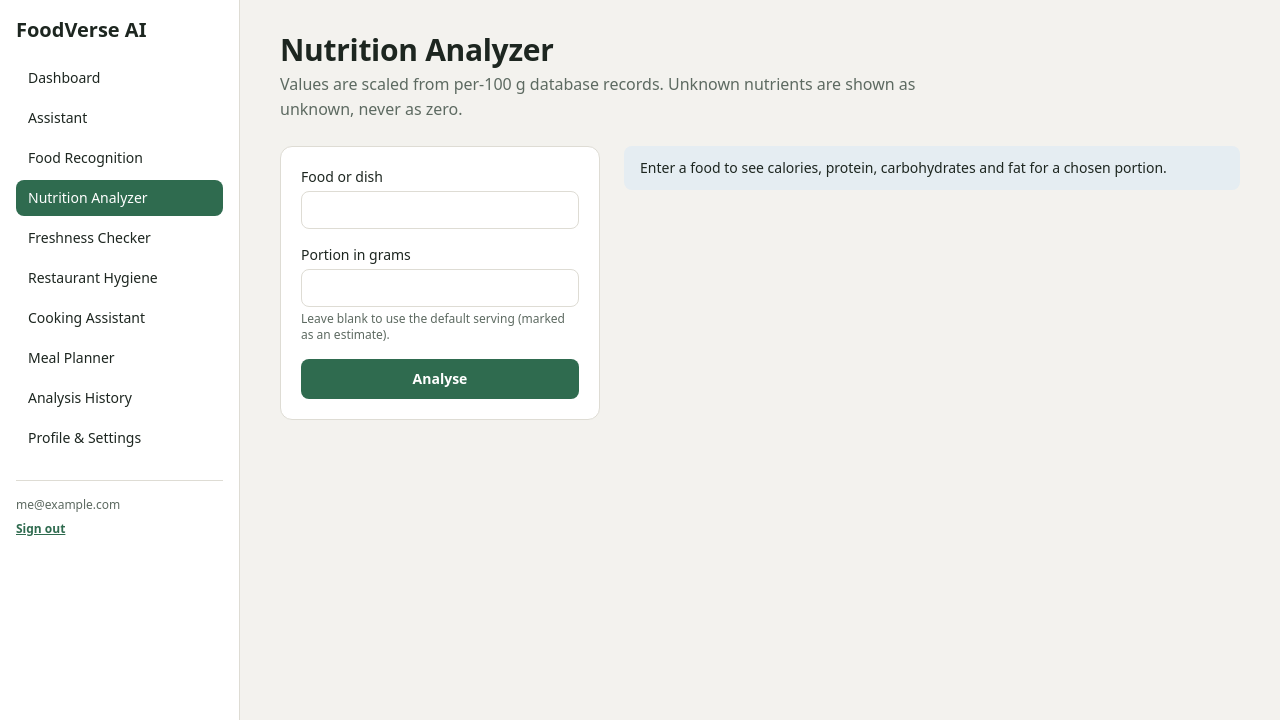
nutrition › validates the portion field
This screenshot has width=1280, height=720.
Type "apple" into the field labelled "Food or dish".
click(440, 210); type("apple")  # box [301,191,579,229]
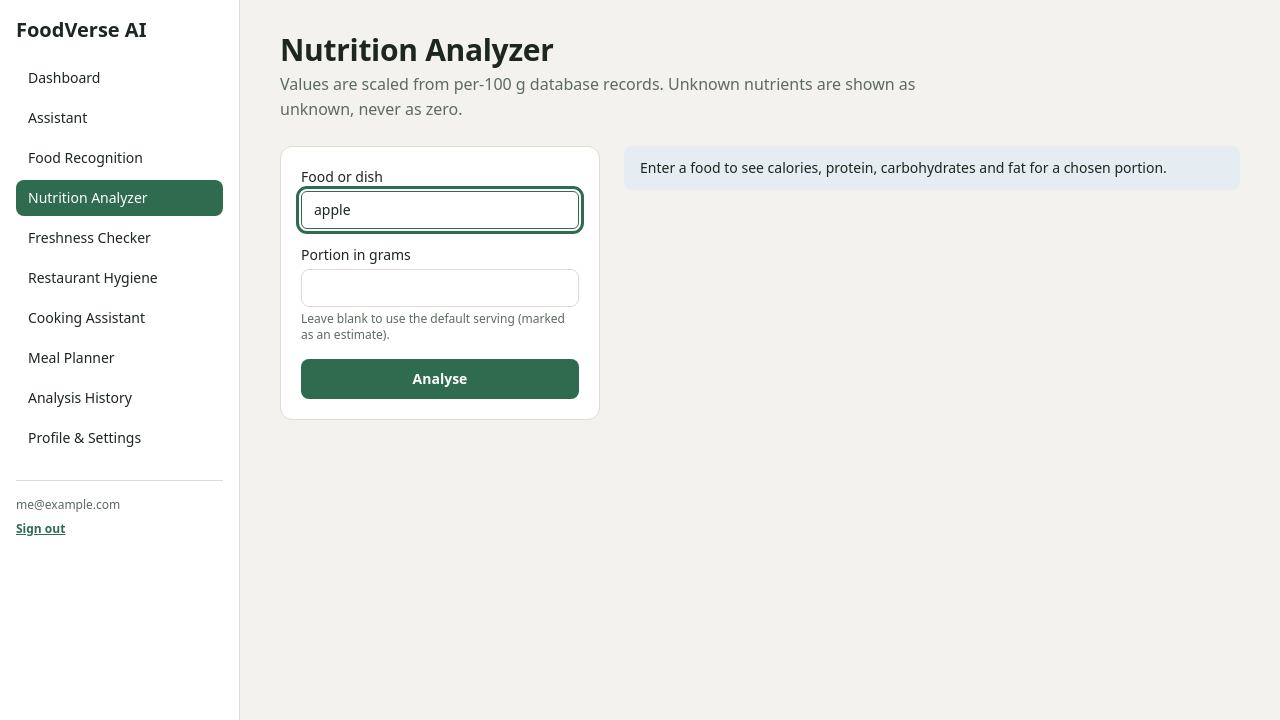
Type "-4" into the field labelled "Portion in grams".
click(440, 288); type("-4")  # box [301,269,579,307]
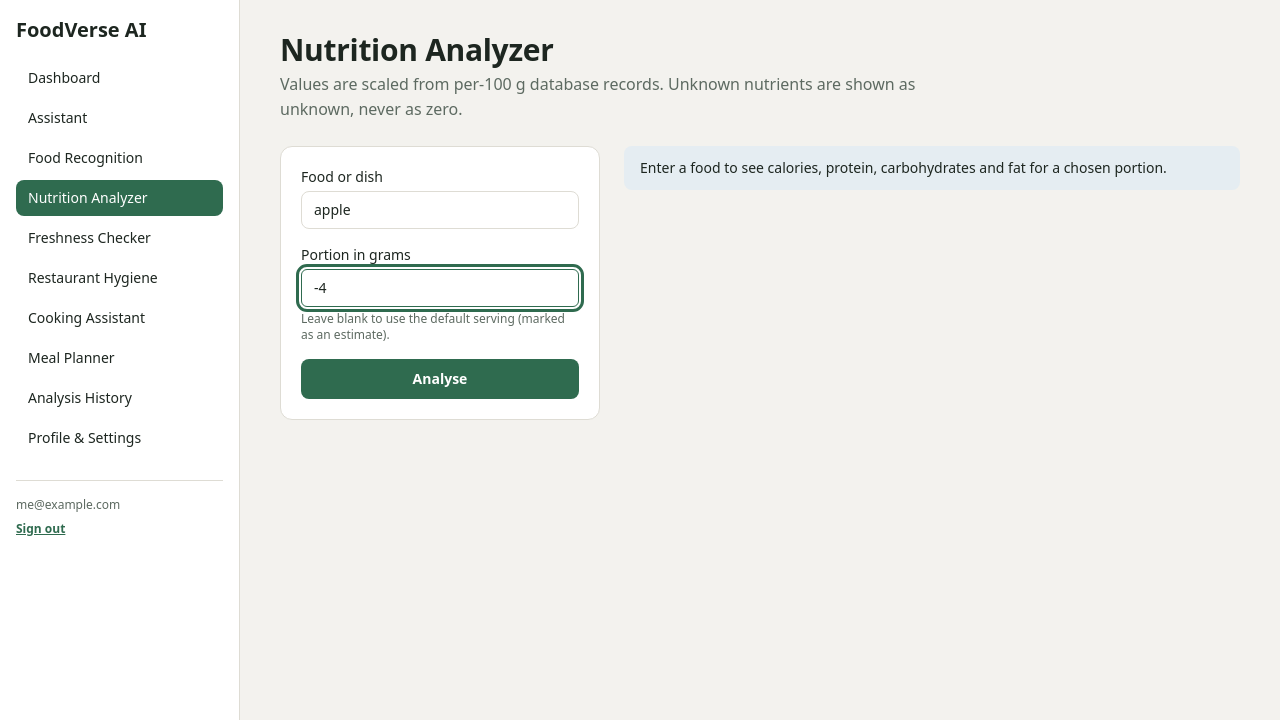
Click the button "Analyse".
click(440, 379)  # box [301,359,579,399]
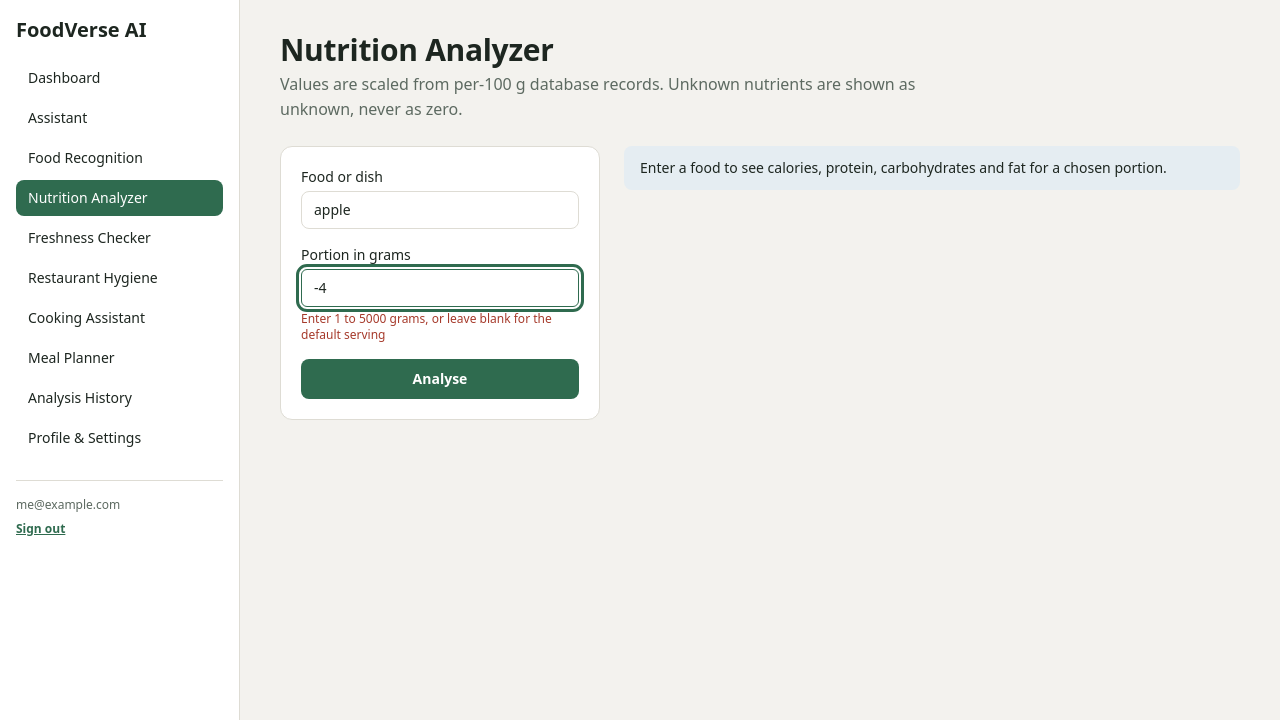
Now the text "Enter 1 to 5000 grams, or leave blank for the default serving" is shown, box [301,311,579,343]
